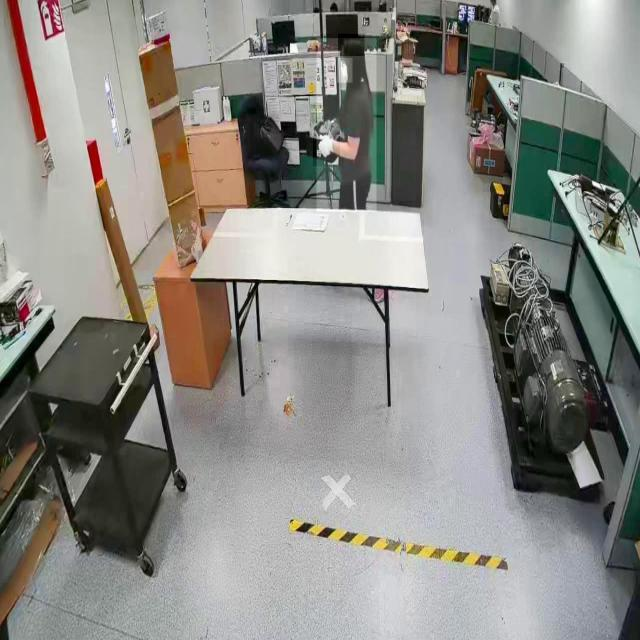face_mask: (337, 58, 353, 84)
hand_glove: (313, 133, 341, 167)
head_nohelmet: (338, 34, 365, 57)
person: (317, 39, 377, 212)
